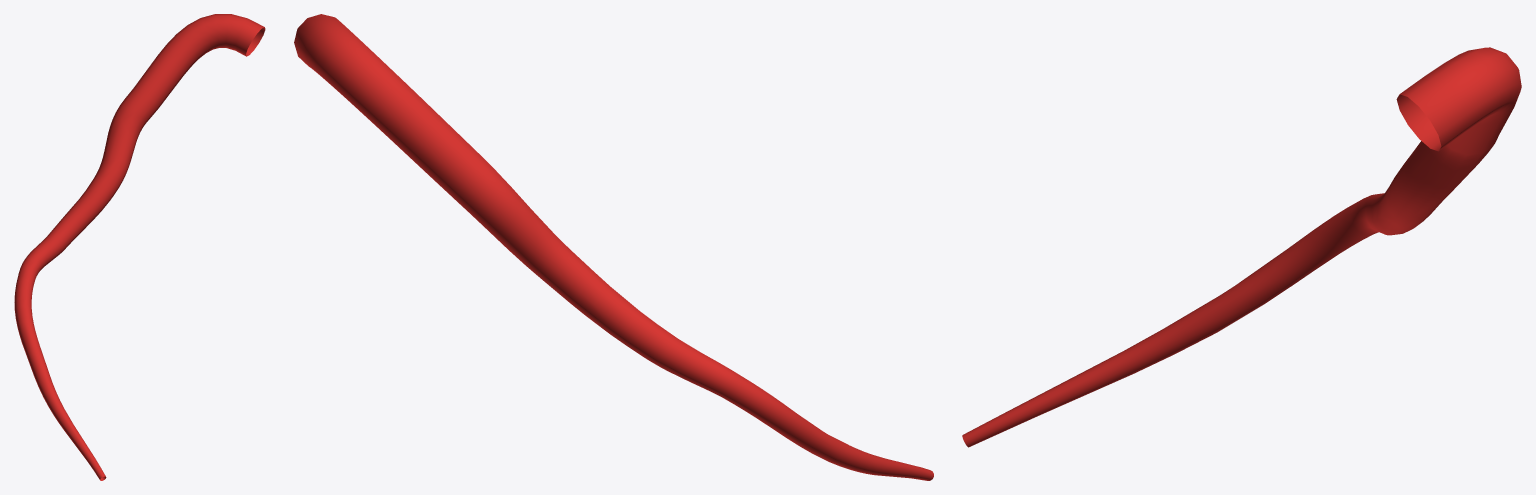
Rendered from circulatorio-superior-lateral-genicular-artery-r.glb.
3 renders of one model, left to right at view 1: azimuth 30°, elevation 25°; view 2: azimuth 150°, elevation 25°; view 3: azimuth 270°, elevation 25°, orthographic. The views are drawn at different scales.
Parts seen in each view (by area): view 1: Superior lateral genicular artery.r; view 2: Superior lateral genicular artery.r; view 3: Superior lateral genicular artery.r.
Part boxes in pixels (left/top/right/bottom): Superior lateral genicular artery.r: left=14, top=14, right=265, bottom=480; Superior lateral genicular artery.r: left=294, top=14, right=933, bottom=480; Superior lateral genicular artery.r: left=962, top=47, right=1521, bottom=447.
Bounding box in the file's own units: 0.0475 × 0.0497 × 0.0401.
